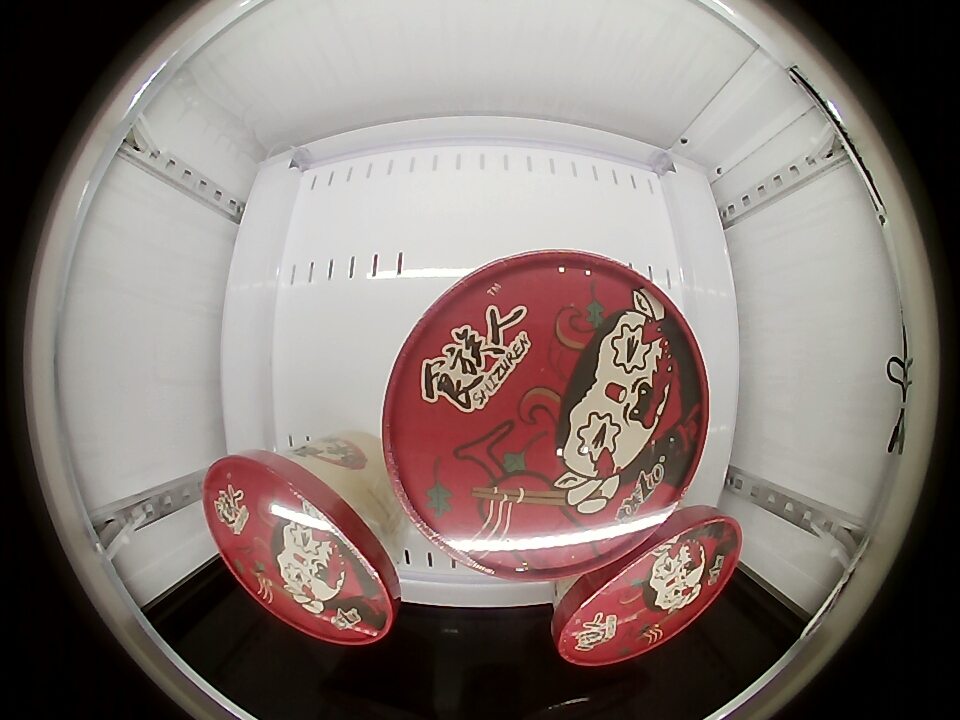suanlafen: (383, 250, 711, 576), (204, 451, 402, 645), (552, 503, 744, 666)
